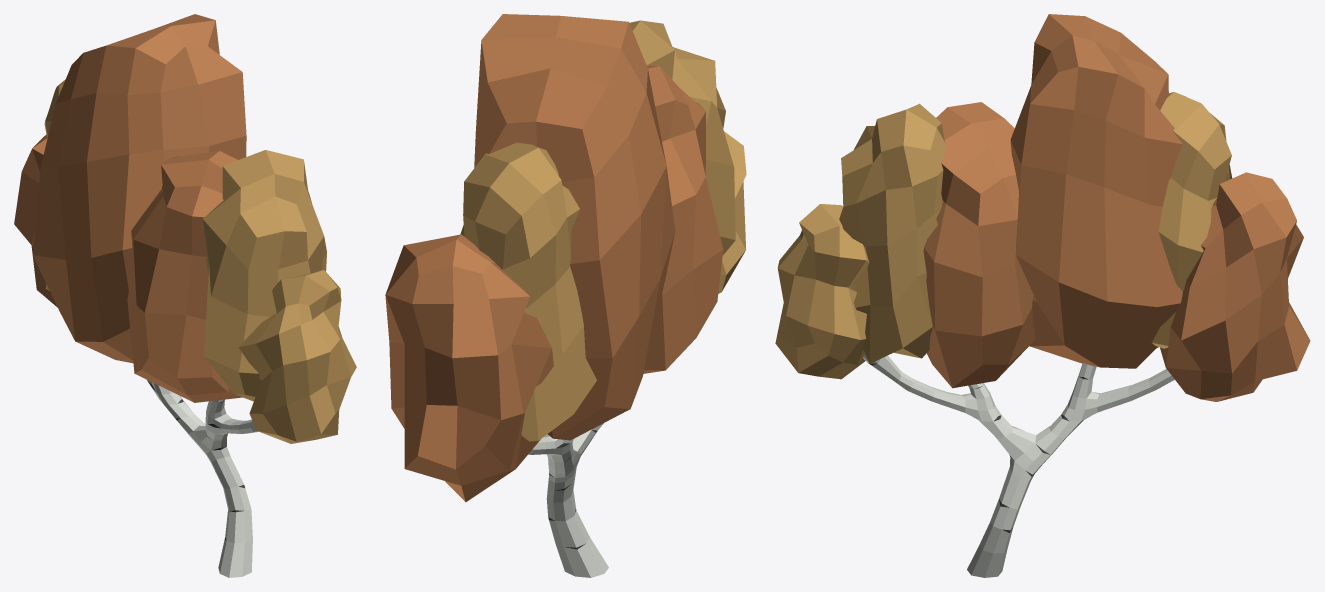
Rendered from birchtree_autumn_4.glb.
The picture shows the model from 3 angles, left to right: view 1: azimuth 30°, elevation 25°; view 2: azimuth 150°, elevation 25°; view 3: azimuth 270°, elevation 25°; orthographic projection. The views are drawn at different scales.
Visible parts, largest first — view 1: BirchTree_Autumn_4; view 2: BirchTree_Autumn_4; view 3: BirchTree_Autumn_4.
Part boxes in pixels (x1,y1,x2,y2): BirchTree_Autumn_4: [14, 14, 356, 577]; BirchTree_Autumn_4: [385, 14, 746, 577]; BirchTree_Autumn_4: [775, 14, 1310, 577].
Bounding box in the file's own units: 1.15 × 3.56 × 3.29.
